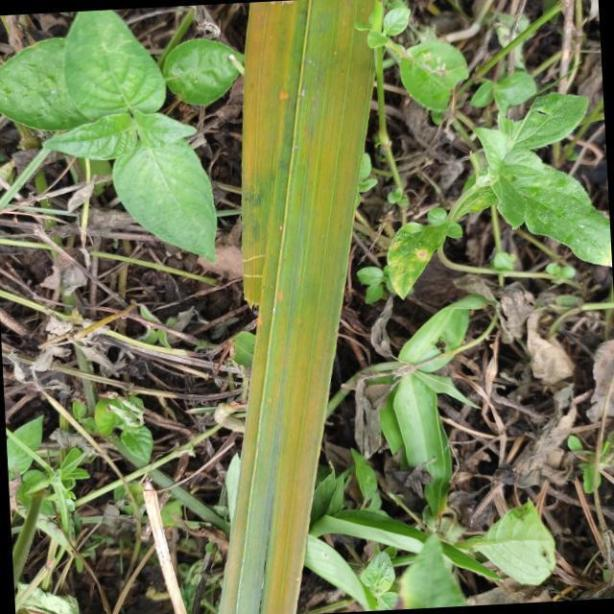Megnesium: (217, 0, 379, 614)
